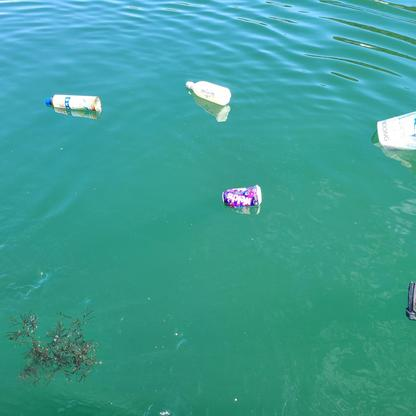can: (219, 186, 262, 207)
plastic bottle: (184, 77, 232, 107), (45, 93, 101, 111)
